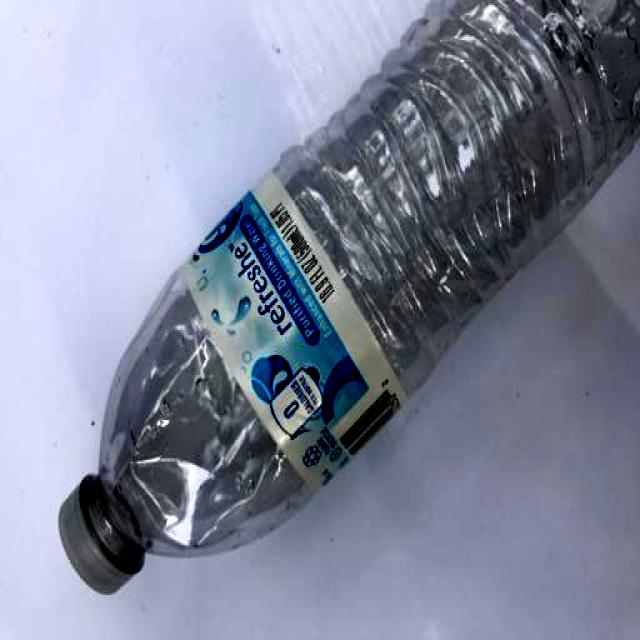Plastic: (44, 0, 640, 608)
